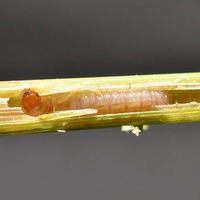insect: (0, 72, 199, 134)
